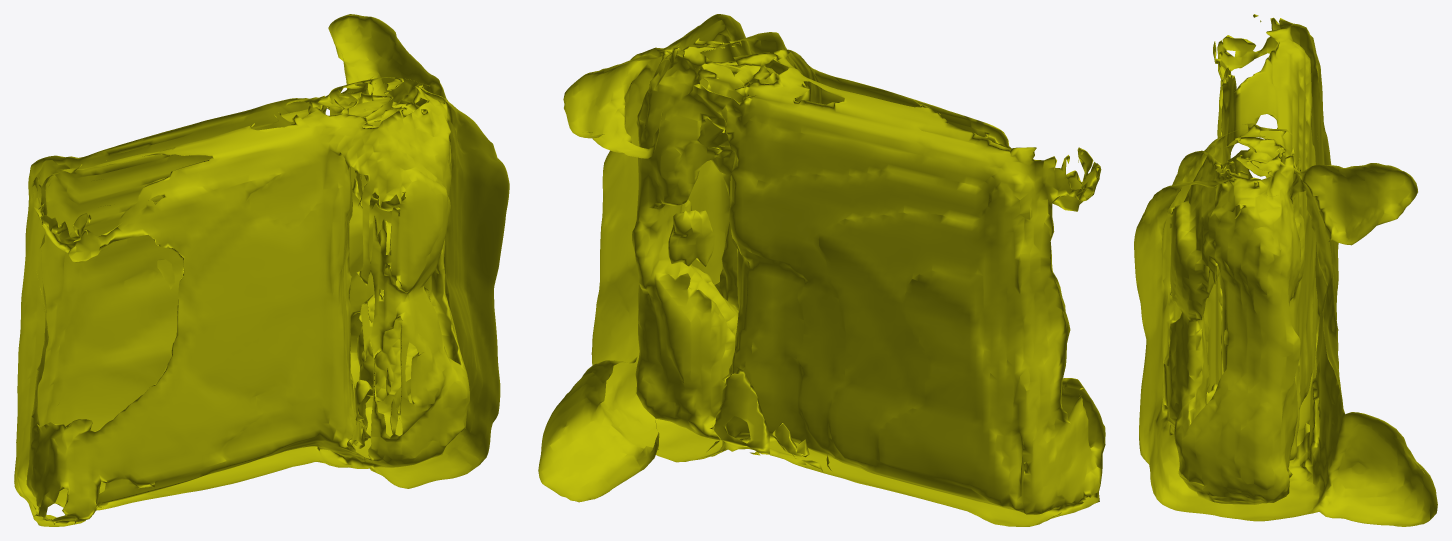
3 renders of one model, left to right at view 1: azimuth 30°, elevation 25°; view 2: azimuth 150°, elevation 25°; view 3: azimuth 270°, elevation 25°, orthographic. The views are drawn at different scales.
Parts seen in each view (by area): view 1: world; view 2: world; view 3: world.
Boxes of the visible parts, x1=… form: world: x1=14, y1=14, x2=509, y2=526; world: x1=538, y1=14, x2=1105, y2=526; world: x1=1134, y1=14, x2=1437, y2=526.
Size of the model in its own units: 73.07 by 60.42 by 46.63.
